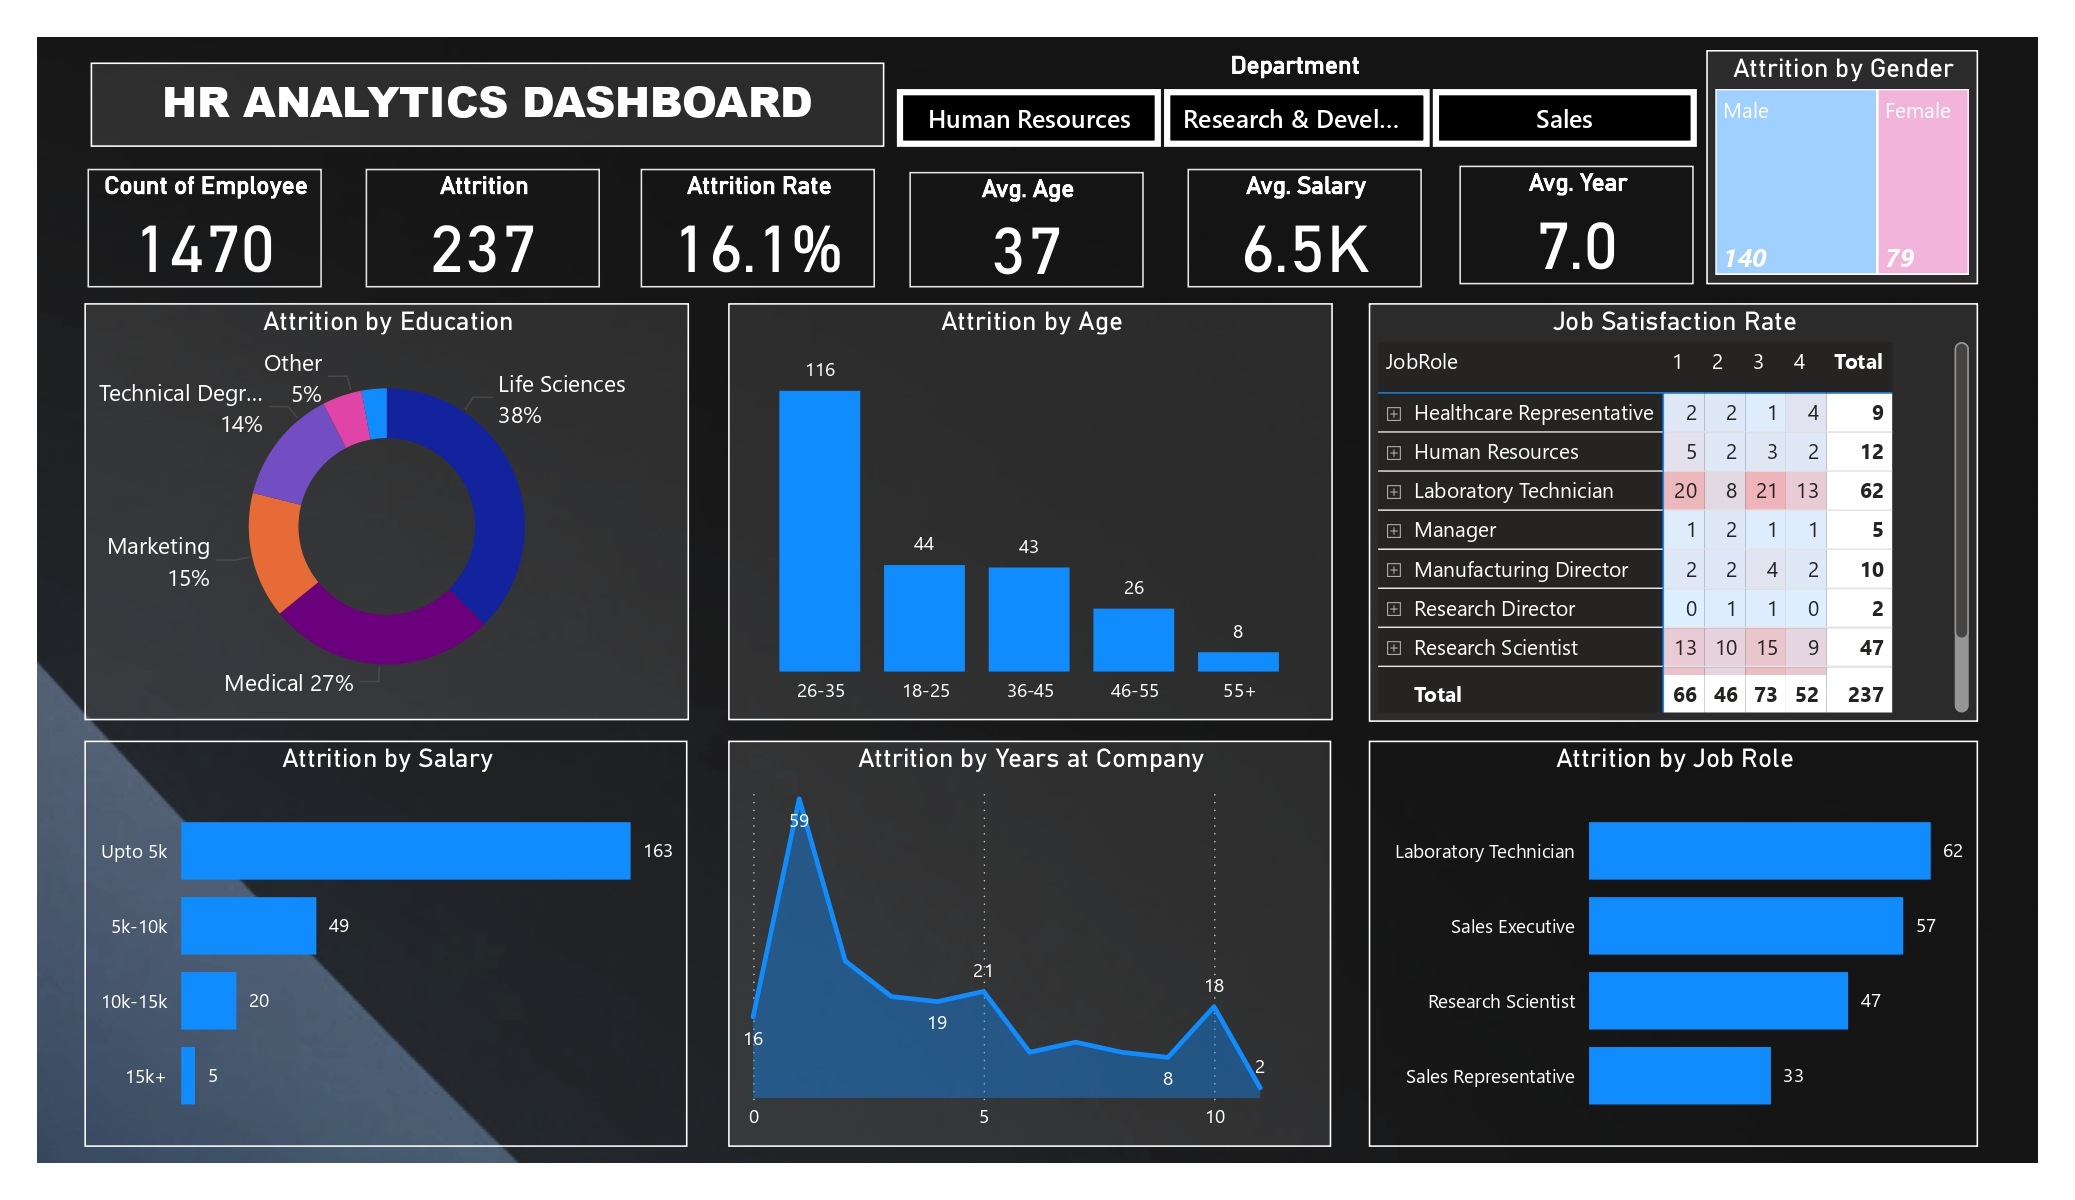

The page's visual inventory and layout, read from the dashboard file:
{"tool":"powerbi","page":{"name":"Page 1","canvas":[1280,720],"ordinal":0},"visuals":[{"type":"card","title":"Count of Employee","fields":{"Values":["CountNonNull(HR_Analytics.EmpID)"]},"box":[32,84,150,76],"z":0},{"type":"card","title":"Attrition","fields":{"Values":["Sum(HR_Analytics.Attritioncount)"]},"box":[210,84,150,76],"z":1000},{"type":"card","title":"Attrition Rate","fields":{"Values":["HR_Analytics.AttritionRate"]},"box":[386,84,150,76],"z":2000},{"type":"card","title":"Avg. Age","fields":{"Values":["Avg(HR_Analytics.Age)"]},"box":[558,86,150,74],"z":3000},{"type":"card","title":"Avg. Salary ","fields":{"Values":["Avg(HR_Analytics.MonthlyIncome)"]},"box":[736,84,150,76],"z":4000},{"type":"card","title":"Avg. Year","fields":{"Values":["Avg(HR_Analytics.YearsAtCompany)"]},"box":[910,82,150,76],"z":5000},{"type":"donutChart","title":"Attrition by Education","fields":{"Category":["HR_Analytics.EducationField"],"Y":["Sum(HR_Analytics.Attritioncount)"]},"box":[29.5,170.7,387.1,267.1],"z":6000},{"type":"columnChart","title":"Attrition by Age","fields":{"Category":["HR_Analytics.AgeGroup"],"Y":["Sum(HR_Analytics.Attritioncount)"]},"box":[442.3,170.7,387.1,267.1],"z":7000},{"type":"pivotTable","title":"Job Satisfaction Rate","fields":{"Rows":["HR_Analytics.JobRole","HR_Analytics.AgeGroup"],"Columns":["HR_Analytics.JobSatisfaction"],"Values":["Sum(HR_Analytics.Attritioncount)"]},"box":[852,170,390,268],"z":8000},{"type":"barChart","title":"Attrition by Salary","fields":{"Category":["HR_Analytics.SalarySlab"],"Y":["Sum(HR_Analytics.Attritioncount)"]},"box":[30,450,386,260],"z":9000},{"type":"barChart","title":"Attrition by Job Role","fields":{"Y":["Sum(HR_Analytics.Attritioncount)"],"Category":["HR_Analytics.JobRole"]},"box":[852,450,390,260],"z":10000},{"type":"areaChart","title":"Attrition by Years at Company","fields":{"Category":["HR_Analytics.YearsAtCompany"],"Y":["Sum(HR_Analytics.Attritioncount)"]},"box":[442,450,386,260],"z":11000},{"type":"treemap","title":"Attrition by Gender","fields":{"Group":["HR_Analytics.Gender"],"Values":["Sum(HR_Analytics.Attritioncount)"]},"box":[1068,8,174,150],"z":12000},{"type":"slicer","title":"Department","fields":{"Values":["HR_Analytics.Department"]},"box":[524,8,562,68],"z":13000},{"type":"textbox","box":[34,16,508,54],"z":14000}]}

Visuals, with their boxes in screenshot pixels (x1, y1, x2, y2):
"Count of Employee" card: {"left": 88, "top": 169, "right": 322, "bottom": 288}
"Attrition" card: {"left": 366, "top": 169, "right": 600, "bottom": 288}
"Attrition Rate" card: {"left": 641, "top": 169, "right": 875, "bottom": 288}
"Avg. Age" card: {"left": 909, "top": 172, "right": 1144, "bottom": 288}
"Avg. Salary " card: {"left": 1188, "top": 169, "right": 1422, "bottom": 288}
"Avg. Year" card: {"left": 1459, "top": 166, "right": 1694, "bottom": 284}
"Attrition by Education" donutChart: {"left": 84, "top": 304, "right": 688, "bottom": 722}
"Attrition by Age" columnChart: {"left": 729, "top": 304, "right": 1333, "bottom": 722}
"Job Satisfaction Rate" pivotTable: {"left": 1369, "top": 303, "right": 1978, "bottom": 722}
"Attrition by Salary" barChart: {"left": 84, "top": 741, "right": 688, "bottom": 1147}
"Attrition by Job Role" barChart: {"left": 1369, "top": 741, "right": 1978, "bottom": 1147}
"Attrition by Years at Company" areaChart: {"left": 728, "top": 741, "right": 1331, "bottom": 1147}
"Attrition by Gender" treemap: {"left": 1706, "top": 50, "right": 1978, "bottom": 284}
"Department" slicer: {"left": 856, "top": 50, "right": 1734, "bottom": 156}
textbox: {"left": 91, "top": 62, "right": 884, "bottom": 147}
